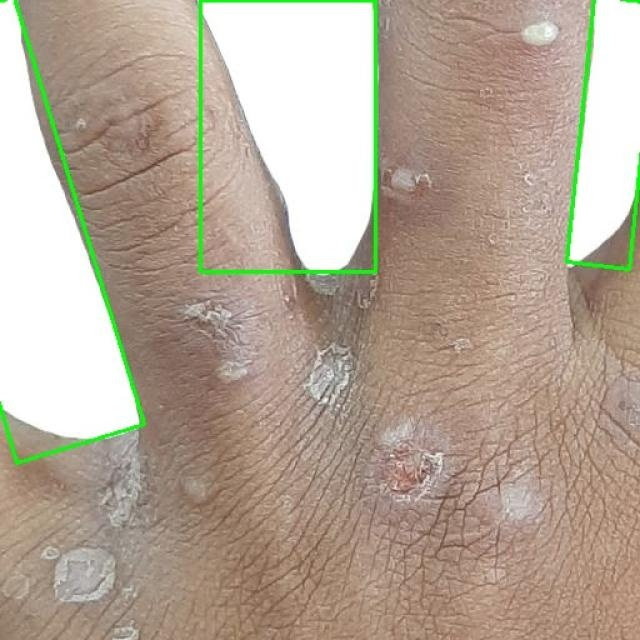Scabies: (0, 0, 145, 463), (200, 0, 375, 271), (567, 0, 640, 269)
